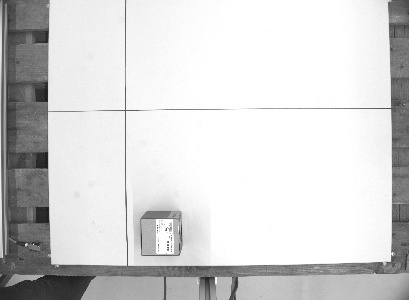b7: (137, 208, 186, 258)
